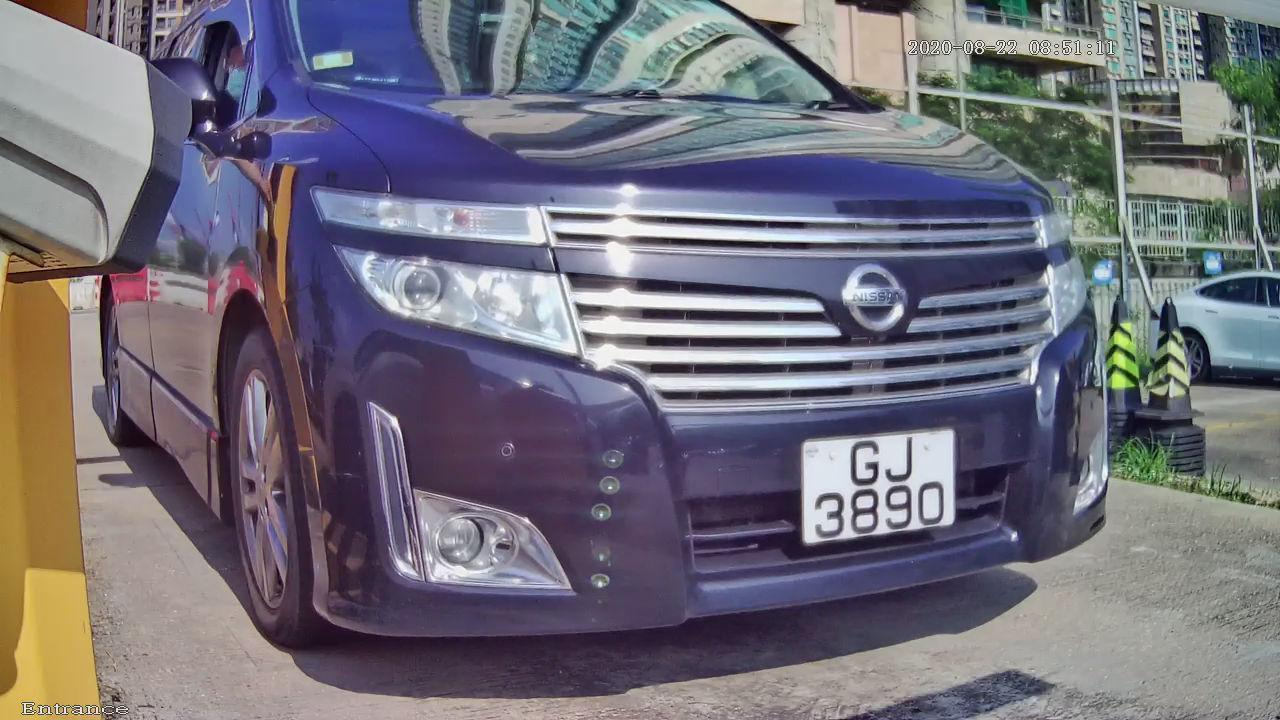Car: (86, 1, 1183, 708)
License Plate: (783, 412, 966, 553)
